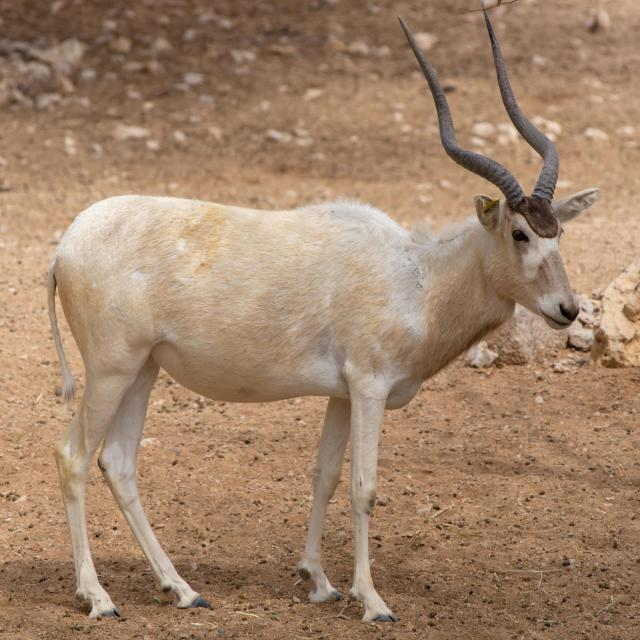Antelope: (34, 20, 582, 625)
